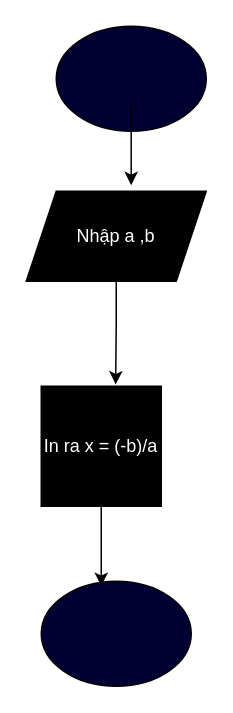
The diagram is 233 pixels wide and 713 high, and some of its shapes have lost their labels. The shapes that lost their labels are listed below. From the top down, each one's centre as x and y in pixels, then its label:
At point 130,78: "Start".
At point 115,633: "End".
